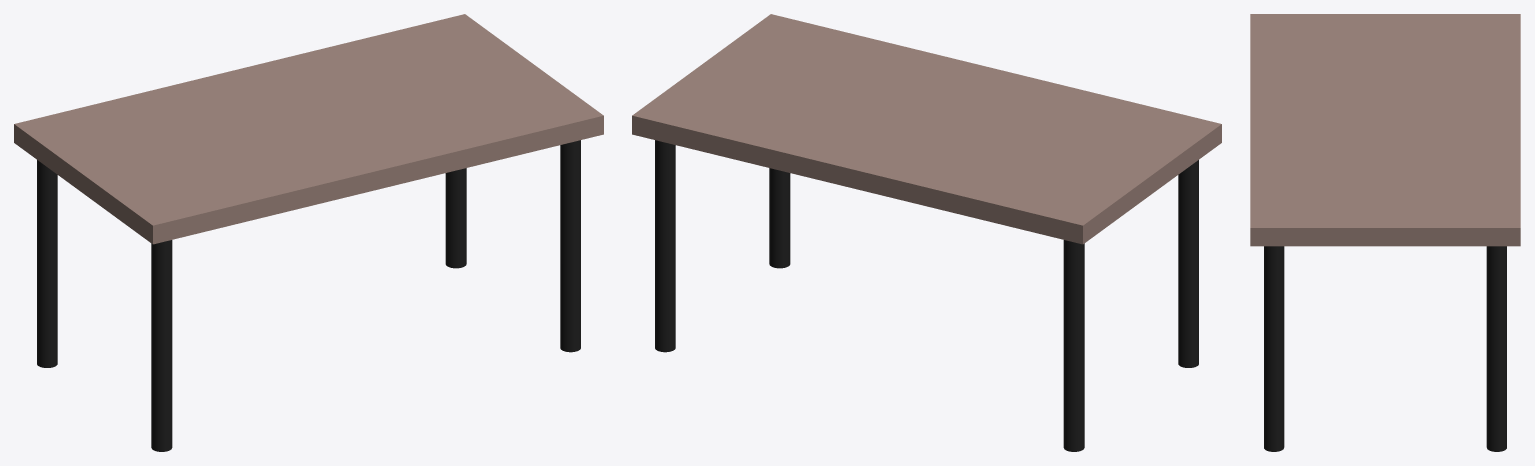
The model's file is table.glb.
The picture shows the model from 3 angles, left to right: view 1: azimuth 30°, elevation 25°; view 2: azimuth 150°, elevation 25°; view 3: azimuth 270°, elevation 25°; orthographic projection. The views are drawn at different scales.
Parts seen in each view (by area): view 1: Table; view 2: Table; view 3: Table.
Boxes of the visible parts, left/top/right/bottom form: Table: left=14, top=14, right=603, bottom=451; Table: left=632, top=14, right=1221, bottom=451; Table: left=1250, top=14, right=1520, bottom=451.
Bounding box in the file's own units: 1.5 × 0.75 × 0.8.
